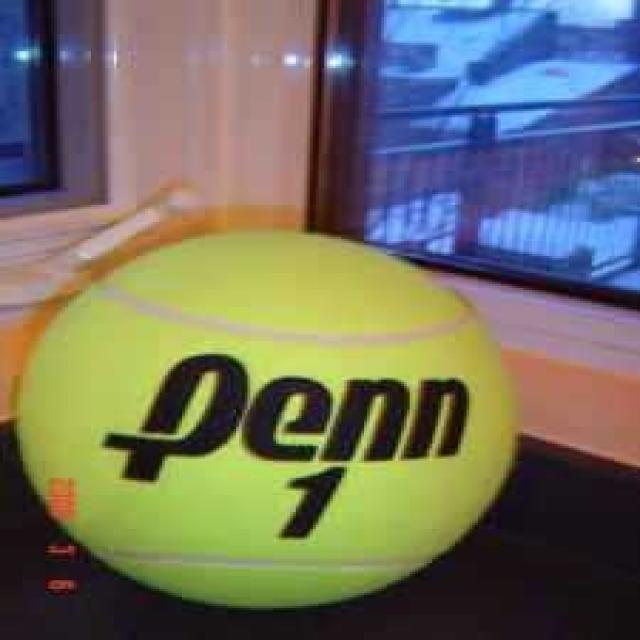Tennis_Ball: (36, 239, 506, 606)
